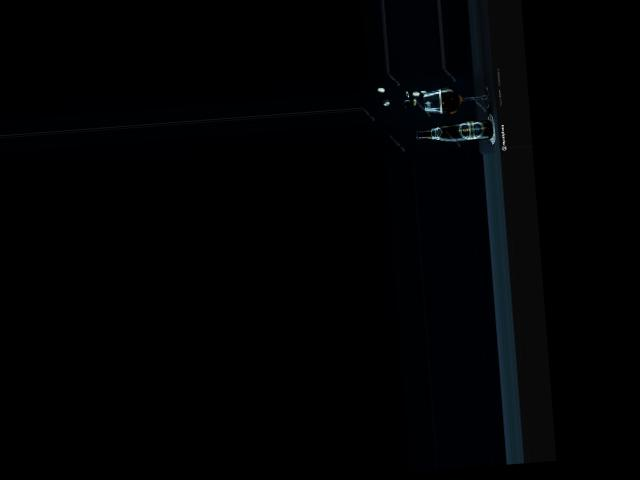beer: (416, 120, 492, 143)
